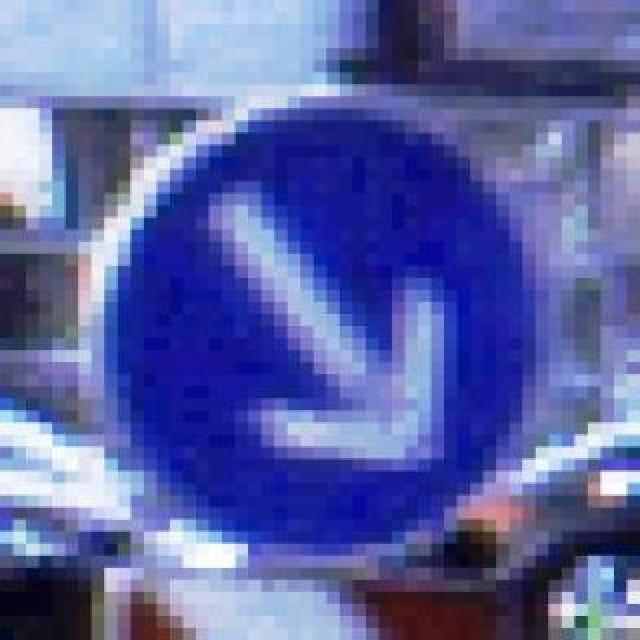keep right: (66, 72, 536, 556)
